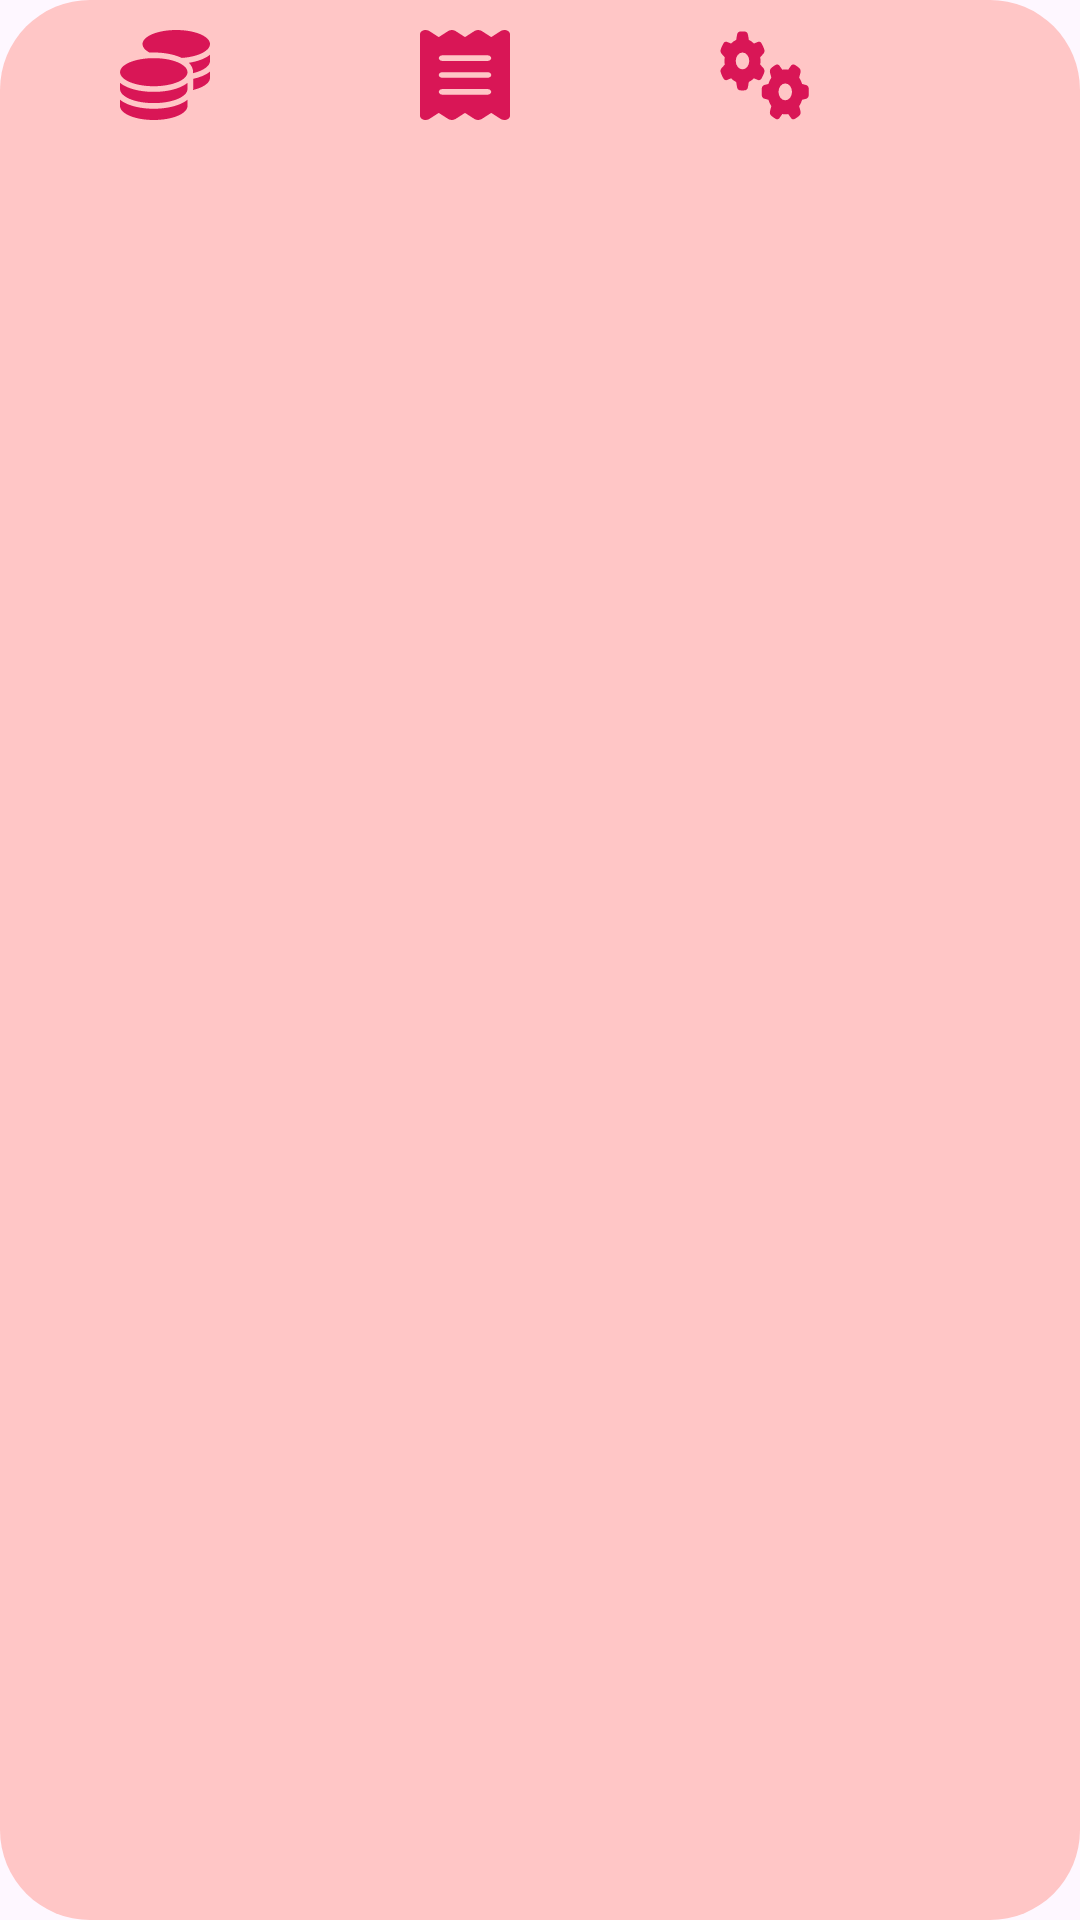

Screen size 1080w x 1920h. Icon name, then its box in pixels as BBox(x1, y1, x2, y2):
gears: BBox(720, 31, 809, 120)
money: BBox(120, 30, 210, 120)
recibo: BBox(420, 30, 510, 120)
